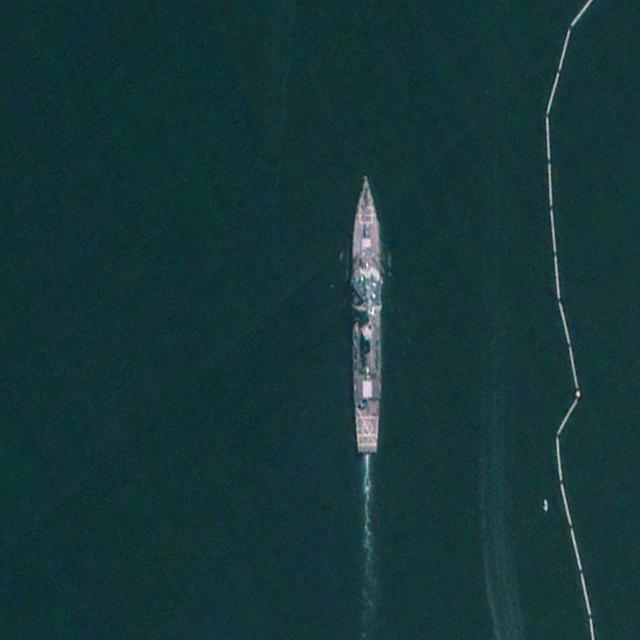Destroyer: (350, 174, 383, 453)
